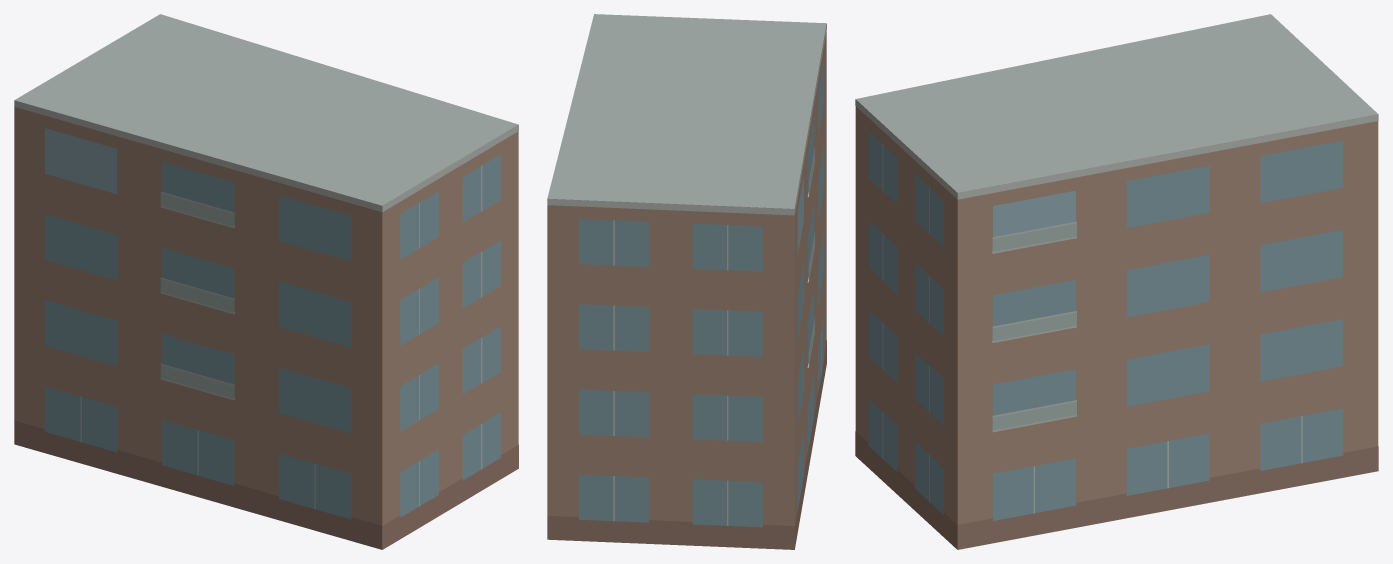
Rendered from survey-upis-32741817.glb.
The picture shows the model from 3 angles, left to right: view 1: azimuth 30°, elevation 25°; view 2: azimuth 150°, elevation 25°; view 3: azimuth 270°, elevation 25°; orthographic projection. The views are drawn at different scales.
Parts seen in each view (by area): view 1: survey-upis-32741817.tmp; view 2: survey-upis-32741817.tmp; view 3: survey-upis-32741817.tmp.
Part boxes in pixels (x1,y1,x2,y2): survey-upis-32741817.tmp: (14,14,518,549); survey-upis-32741817.tmp: (547,14,826,549); survey-upis-32741817.tmp: (855,14,1378,549).
Size of the model in its own units: 13.84 by 12.87 by 17.1.
